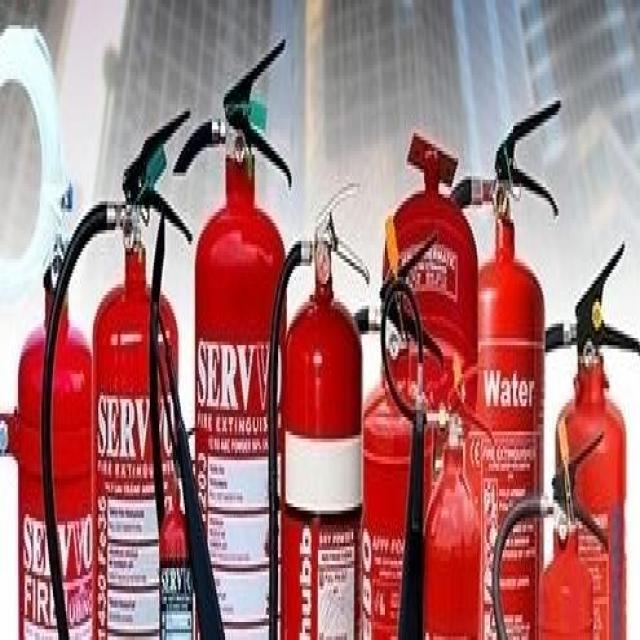fire_extinguisher: (141, 26, 297, 636), (36, 101, 192, 636), (424, 90, 563, 636), (496, 234, 638, 636), (261, 169, 374, 636), (326, 219, 445, 636), (0, 172, 103, 636), (374, 270, 496, 636), (377, 165, 479, 482), (146, 288, 233, 636), (489, 421, 611, 636)
